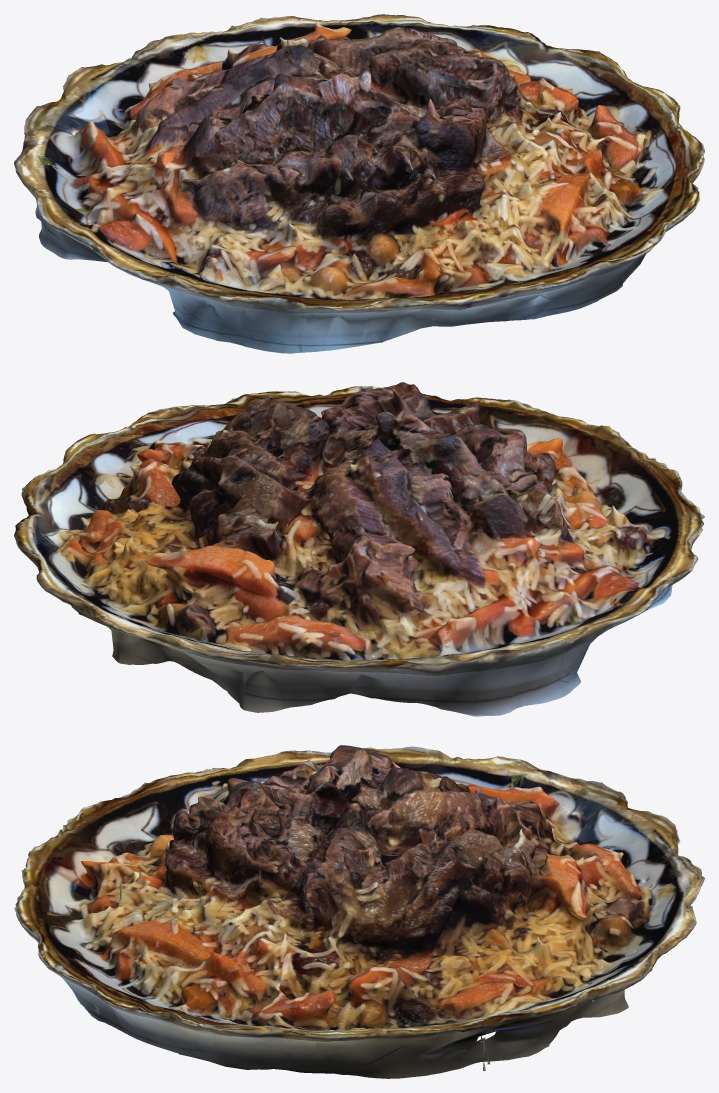
File: beef_rice.glb
The picture shows the model from 3 angles, top to bottom: view 1: azimuth 30°, elevation 25°; view 2: azimuth 150°, elevation 25°; view 3: azimuth 270°, elevation 25°; orthographic projection.
Visible parts, largest first — view 1: mesh; view 2: mesh; view 3: mesh.
Part boxes in pixels (left/top/right/bottom): mesh: left=14, top=14, right=704, bottom=353; mesh: left=14, top=382, right=704, bottom=716; mesh: left=14, top=745, right=704, bottom=1078.
Bounding box in the file's own units: 0.2448 × 0.0674 × 0.2456.
1 material, 1 textured.
